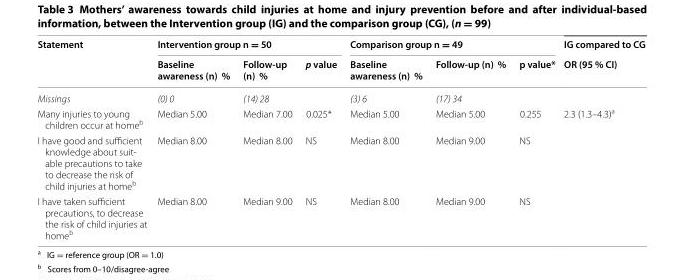table: (36, 37, 644, 240)
table column: (36, 37, 151, 240), (342, 37, 428, 240), (558, 37, 644, 240), (151, 37, 235, 240), (428, 37, 511, 240), (235, 37, 298, 240), (511, 37, 558, 240), (298, 37, 342, 240)
table column header: (36, 37, 644, 86)
table row: (36, 132, 644, 193), (36, 193, 644, 240), (36, 56, 644, 86), (36, 104, 644, 132), (36, 37, 644, 56), (36, 86, 644, 104)
table spanning cell: (36, 37, 151, 86), (558, 37, 644, 86), (342, 37, 558, 56), (151, 37, 342, 56)
